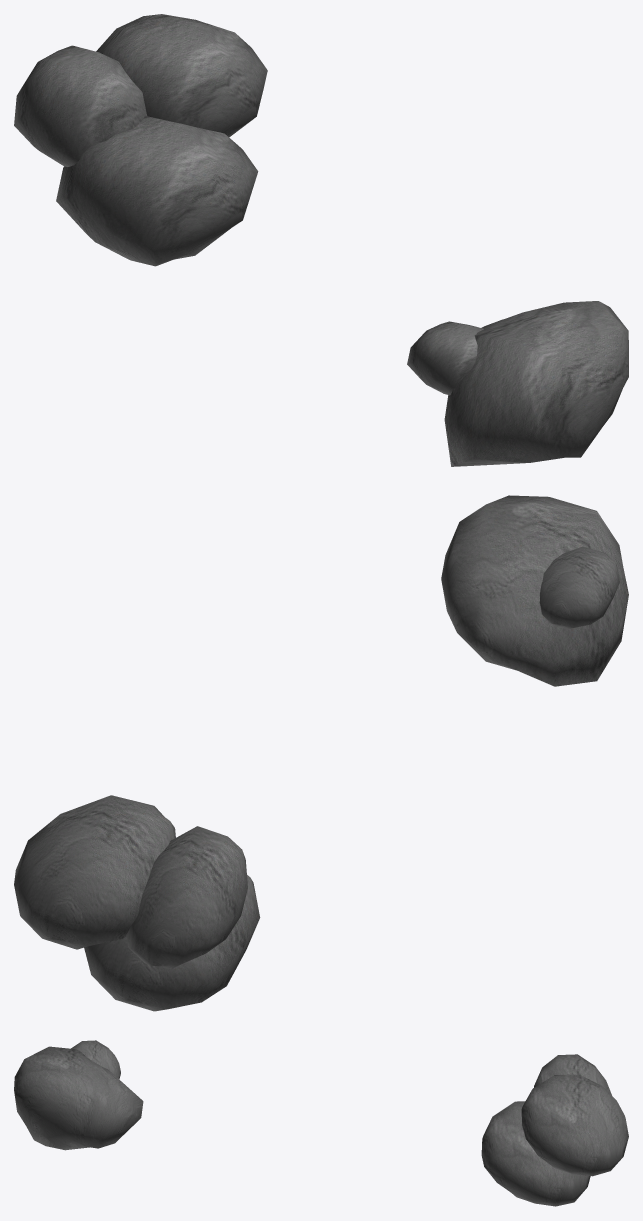
The model's file is StoneCluster2Shape.dae.
The picture shows the model from 3 angles, top to bottom: view 1: azimuth 30°, elevation 25°; view 2: azimuth 150°, elevation 25°; view 3: azimuth 270°, elevation 25°; orthographic projection. The views are drawn at different scales.
Visible parts, largest first — view 1: StoneCluster2; view 2: StoneCluster2; view 3: StoneCluster2.
Part boxes in pixels (x1,y1,x2,y2): StoneCluster2: [14, 14, 628, 466]; StoneCluster2: [14, 495, 628, 1011]; StoneCluster2: [14, 1040, 628, 1206].
Size of the model in its own units: 11.78 by 10.9 by 43.54.
